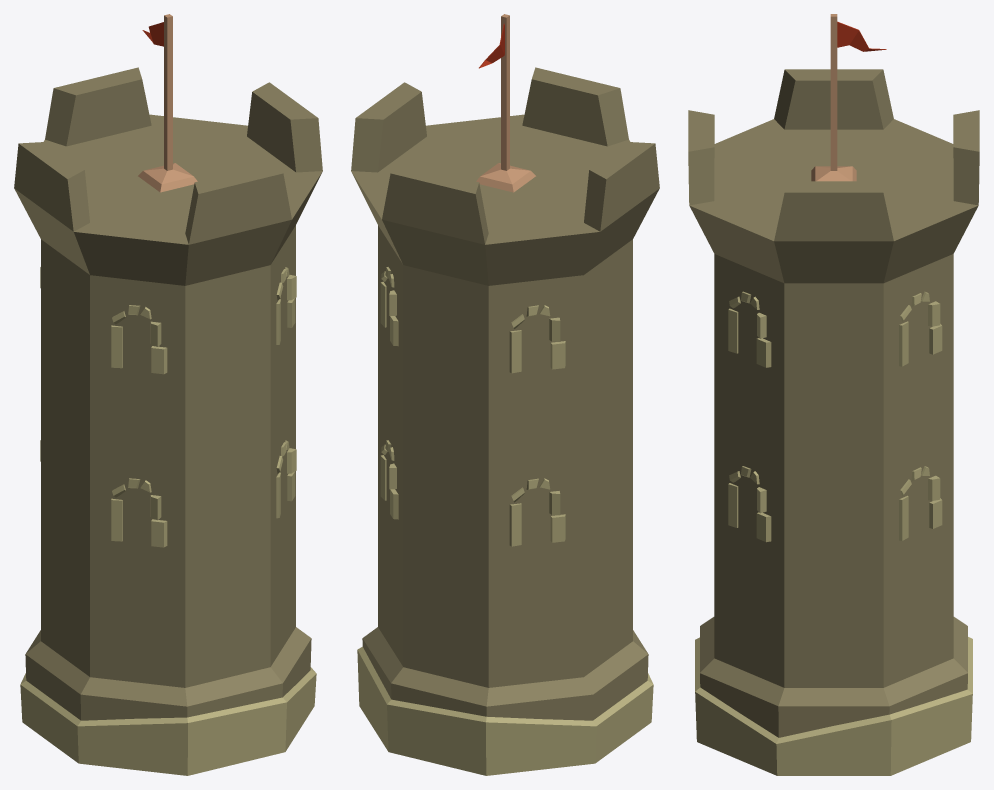
File: Human-MainStructureLVL2.fbx
3 renders of one model, left to right at view 1: azimuth 30°, elevation 25°; view 2: azimuth 150°, elevation 25°; view 3: azimuth 270°, elevation 25°, orthographic.
Visible parts, largest first — view 1: Main-point-lvl2; view 2: Main-point-lvl2; view 3: Main-point-lvl2.
Boxes of the visible parts, x1=… form: Main-point-lvl2: x1=14, y1=14, x2=322, y2=775; Main-point-lvl2: x1=351, y1=14, x2=659, y2=775; Main-point-lvl2: x1=688, y1=14, x2=979, y2=775.
Bounding box in the file's own units: 0.8013 × 0.8013 × 2.13.
